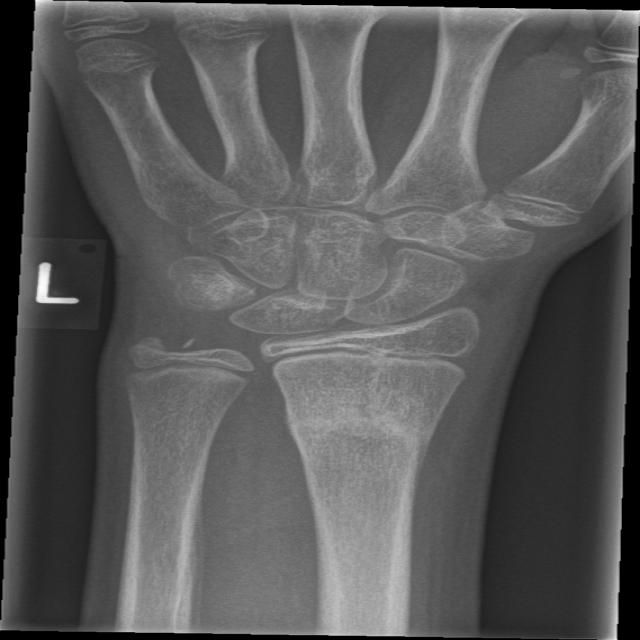radius fracture: (249, 387, 488, 486)
